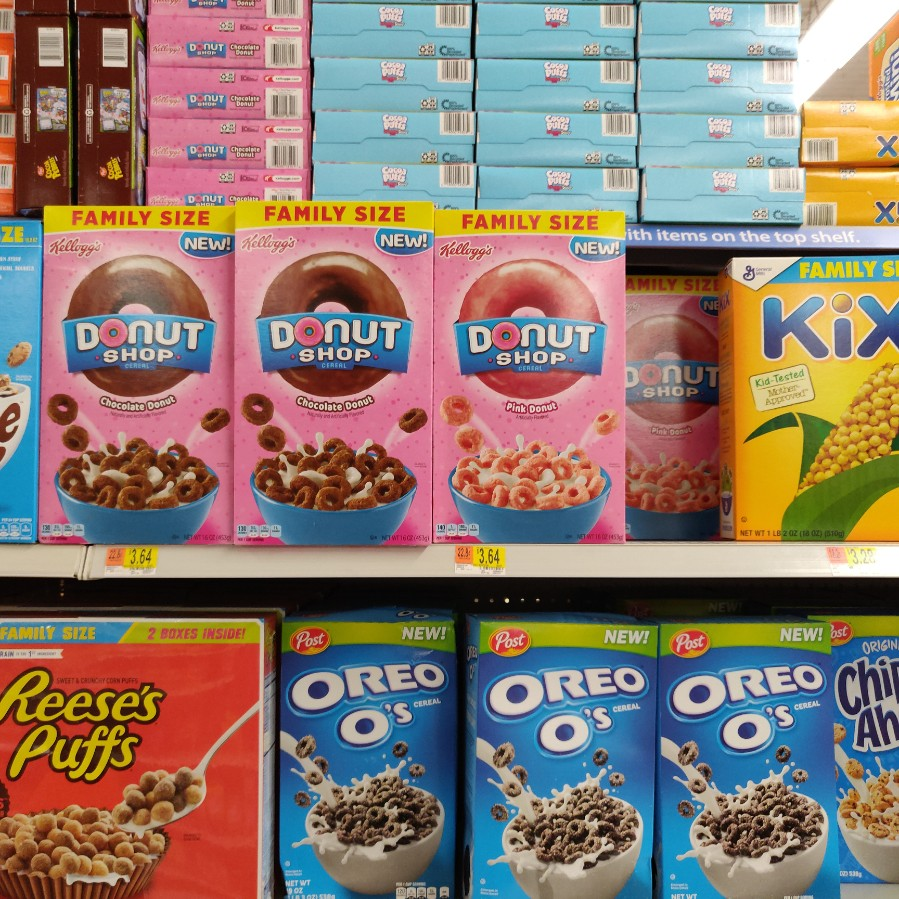Oreo-563424384: (465, 614, 658, 899), (275, 621, 464, 899), (662, 617, 833, 899)
